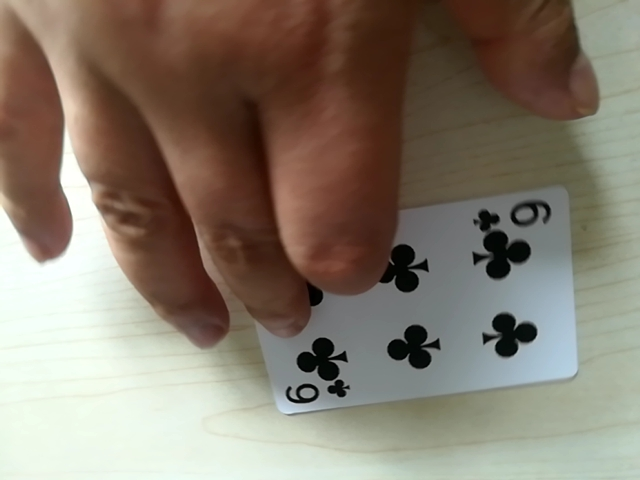mh 6: (278, 367, 349, 414), (478, 195, 552, 229)
